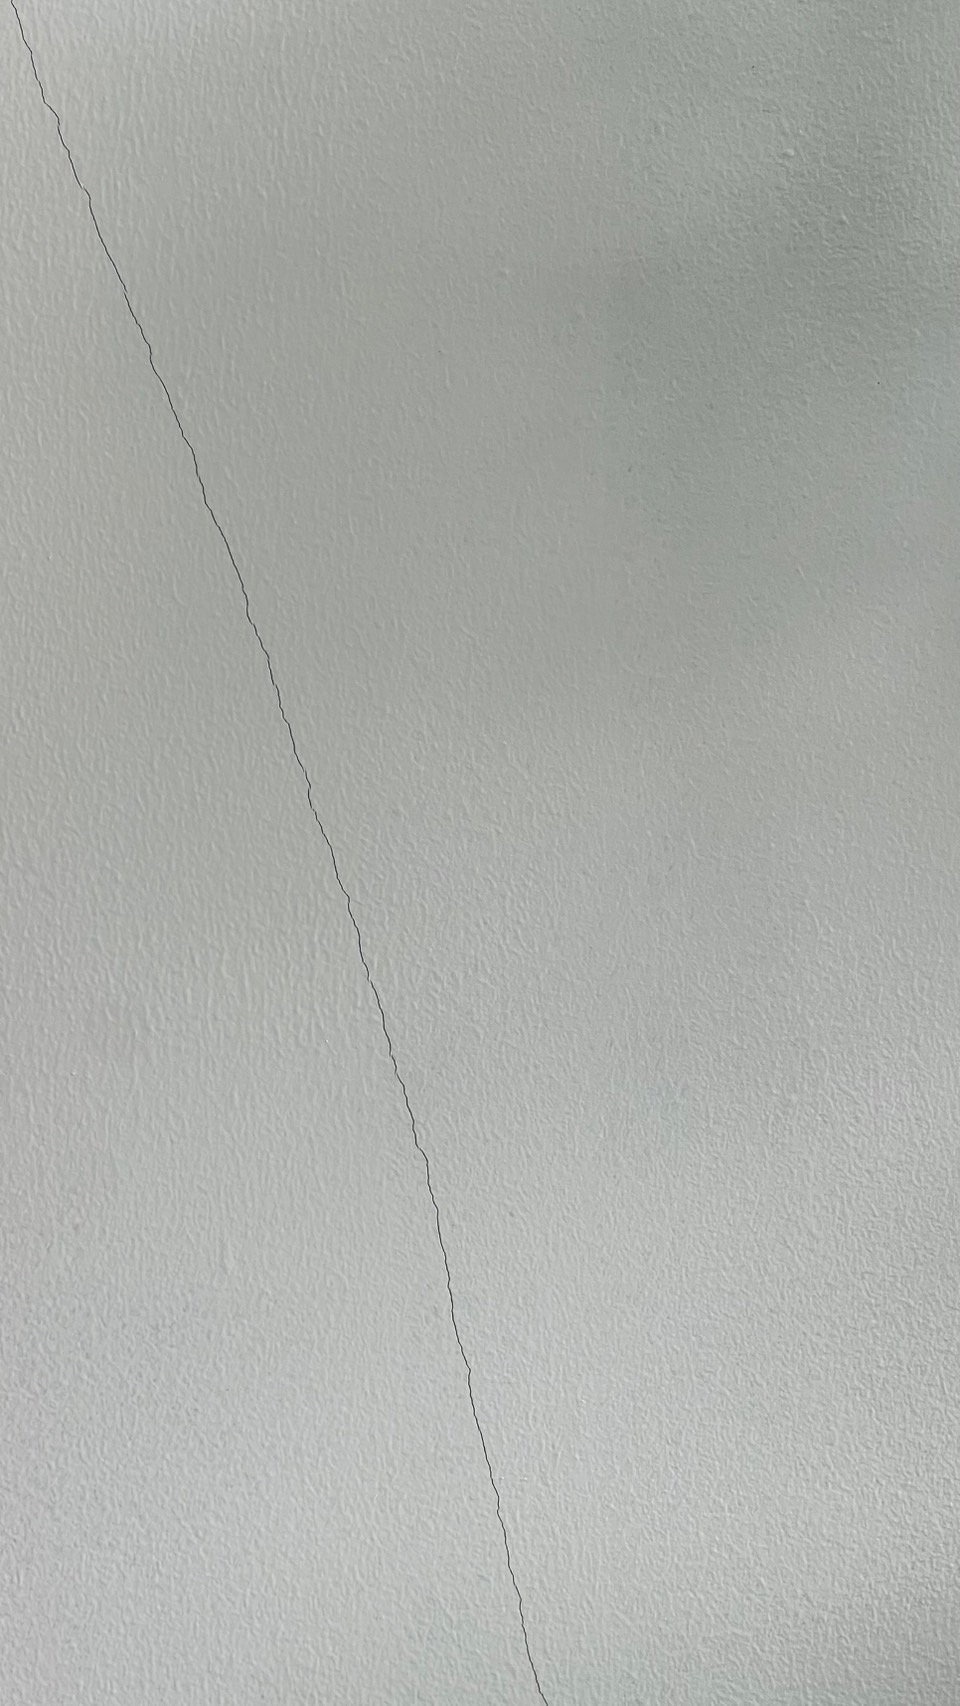Low: (4, 2, 663, 1706)
